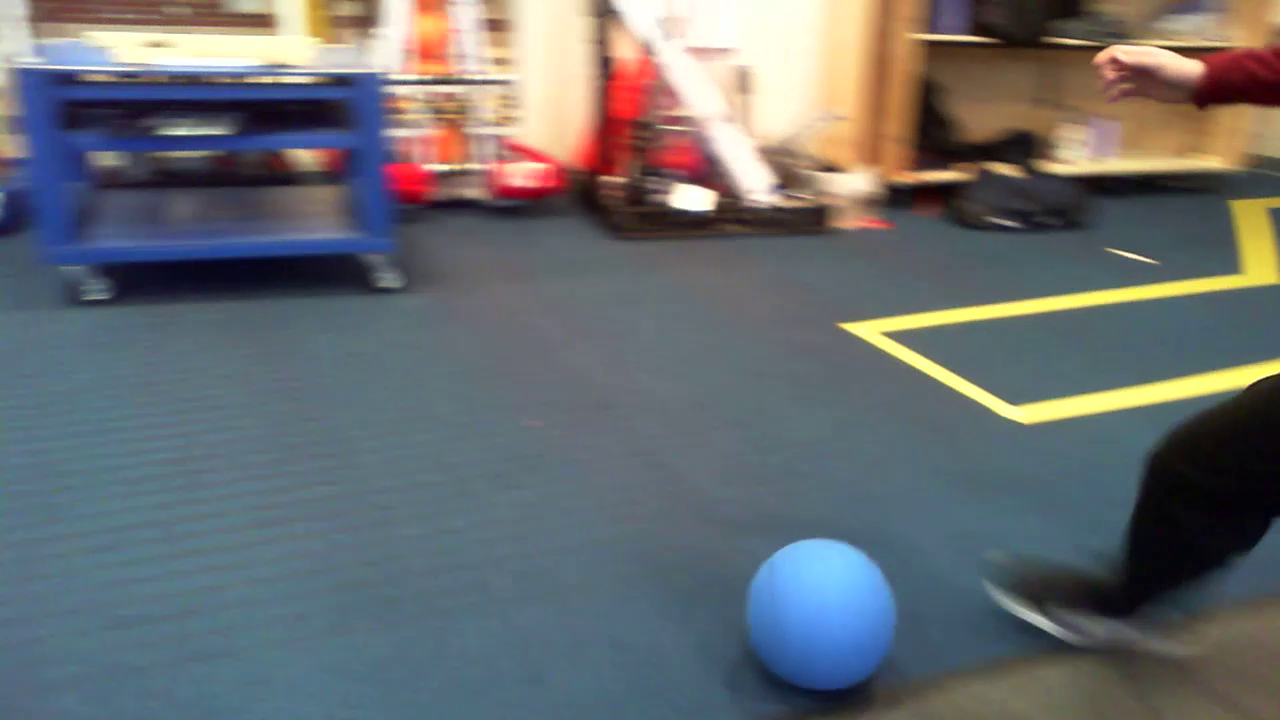blue_cargo: (741, 534, 901, 686)
